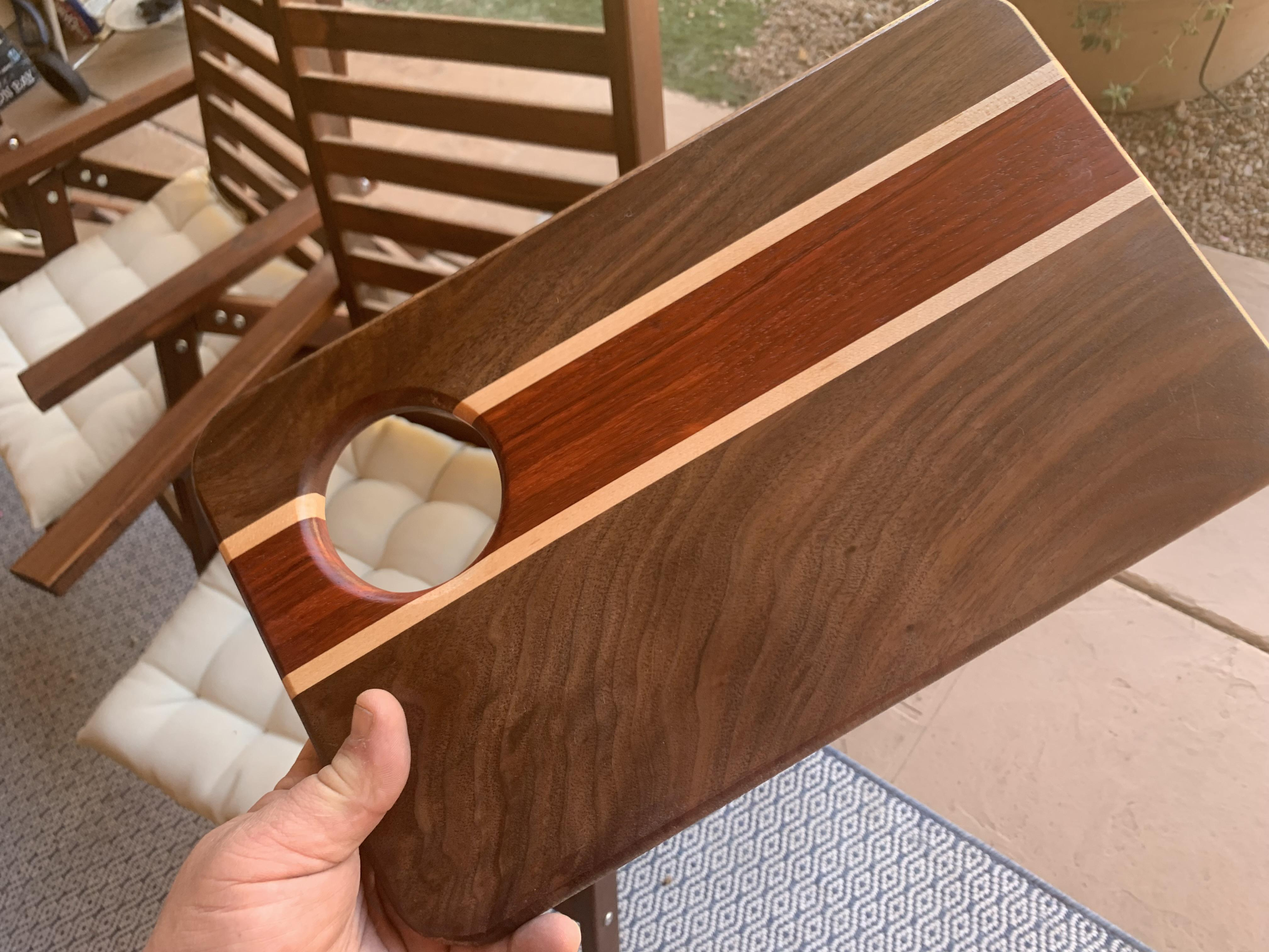gloved_hand: (7, 177, 952, 952)
